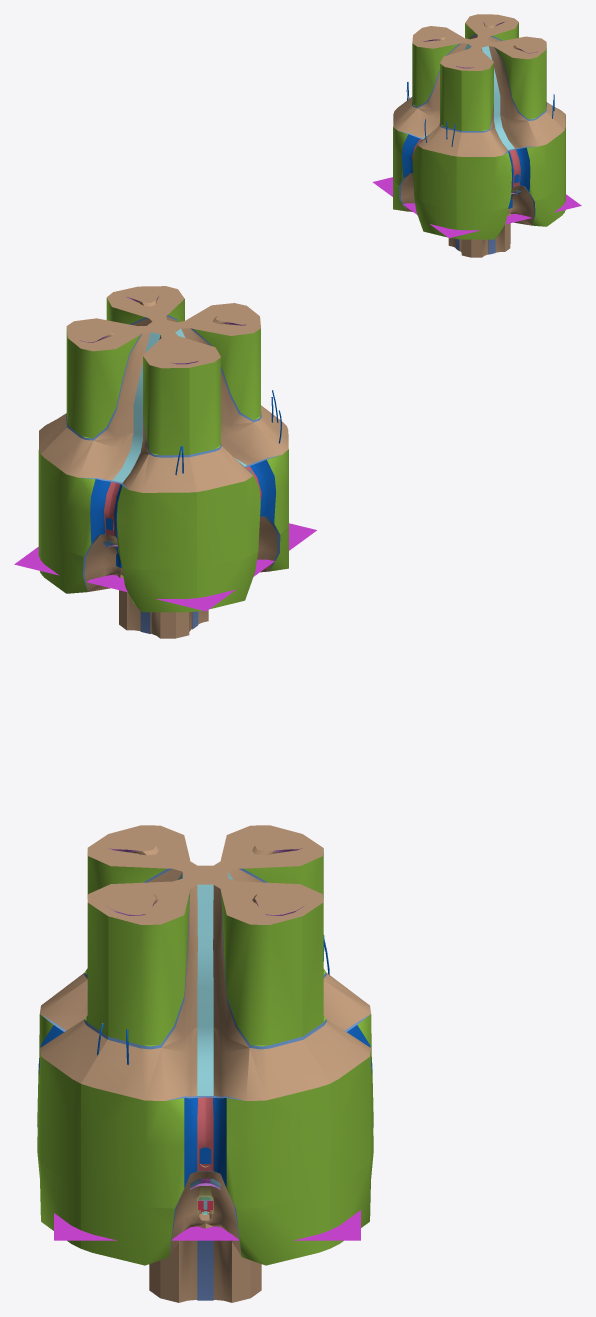
3 renders of one model, top to bottom at view 1: azimuth 30°, elevation 25°; view 2: azimuth 150°, elevation 25°; view 3: azimuth 270°, elevation 25°, orthographic. The views are drawn at different scales.
Parts seen in each view (by area): view 1: cluster_0, cloud_plane; view 2: cluster_0, cloud_plane; view 3: cluster_0, cloud_plane.
Boxes of the visible parts, x1,y1,x2,y2 form: cluster_0: (393,14,565,257); cloud_plane: (372,177,581,238); cluster_0: (38,286,288,638); cloud_plane: (14,523,316,611); cluster_0: (37,825,373,1302); cloud_plane: (54,1210,360,1240).
Size of what is drawn, in the model's own units: 5060793 by 2187281 by 2539532.
